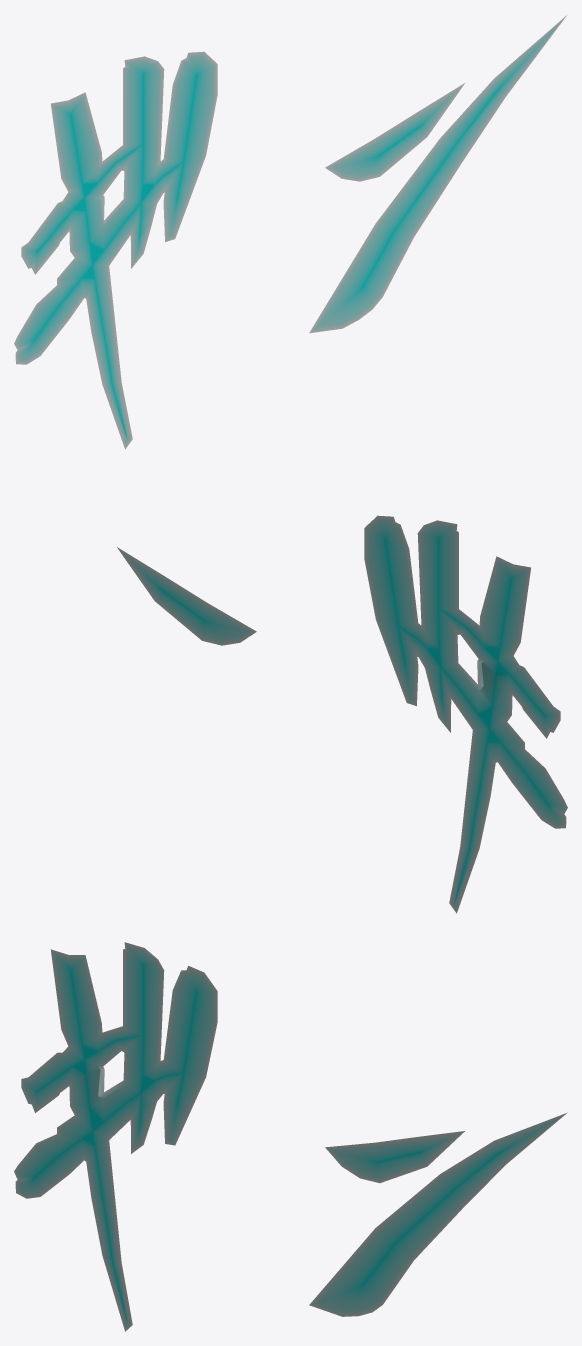
Rendered from SM_EFF_Text_Byakugan_01.glb.
The picture shows the model from 3 angles, top to bottom: view 1: azimuth 30°, elevation 25°; view 2: azimuth 150°, elevation 25°; view 3: azimuth 330°, elevation 25°; orthographic projection.
Parts seen in each view (by area): view 1: SM_EFF_Text_Byakugan_01; view 2: SM_EFF_Text_Byakugan_01; view 3: SM_EFF_Text_Byakugan_01.
Boxes of the visible parts, x1=… form: SM_EFF_Text_Byakugan_01: x1=14, y1=15, x2=566, y2=449; SM_EFF_Text_Byakugan_01: x1=117, y1=515, x2=567, y2=913; SM_EFF_Text_Byakugan_01: x1=14, y1=942, x2=567, y2=1331.
Bounding box in the file's own units: 1.91 × 1.28 × 0.0152.
